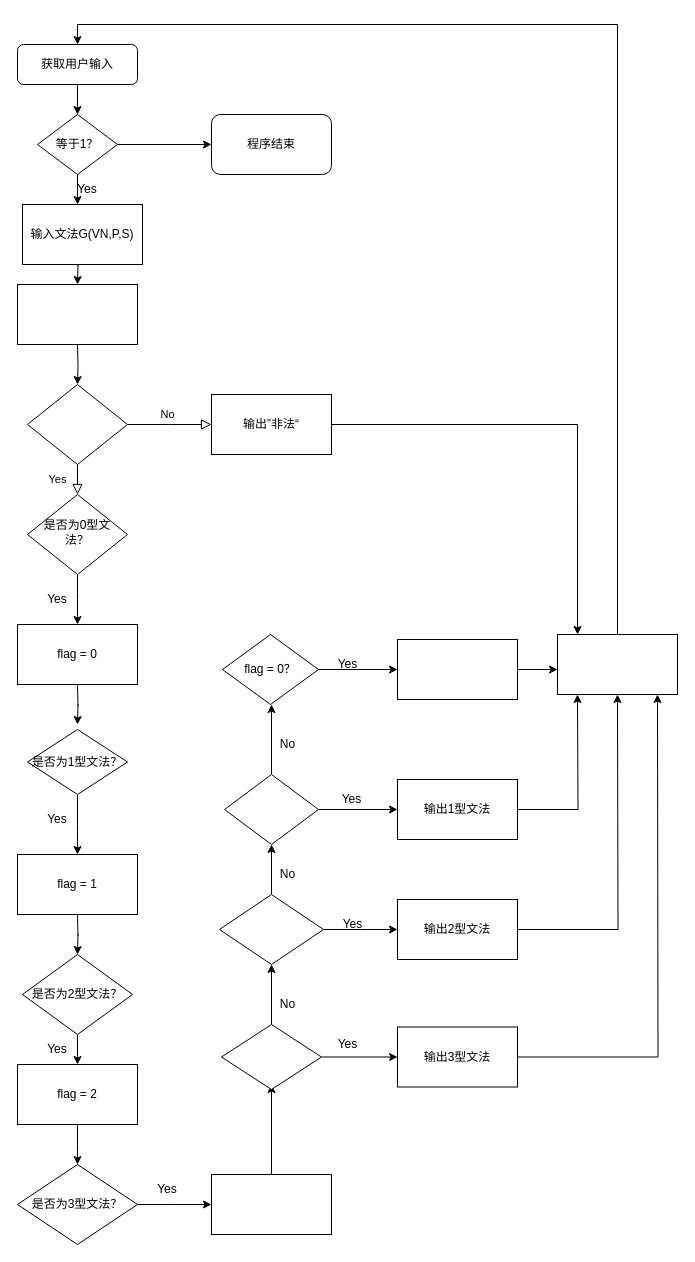
Image size: 695x1262. Some labels were removed from this diagram. The box of each missing label's shape, as (x1, y1, x2, y2) in pixels:
flag = 1 ？: (224, 774, 318, 844)
flag = 2？: (218, 894, 324, 964)
flag = 3: (210, 1174, 332, 1234)
flag = 3 ？: (220, 1024, 322, 1090)
是否合法？: (26, 384, 128, 464)
本轮判断结束，重新获取用户输入: (556, 634, 678, 694)
程序读入文法产生式P: (16, 284, 138, 344)
输出0型文法: (396, 638, 518, 700)
